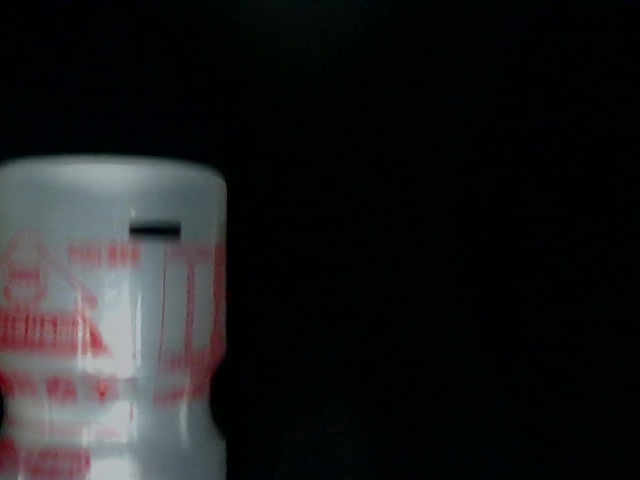CYLJ: (382, 41, 495, 143)
